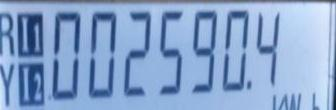.: (271, 93, 327, 110)
0: (247, 81, 253, 90)
1: (50, 11, 83, 99), (89, 10, 117, 98), (222, 10, 248, 93)
3: (121, 11, 151, 97)
5: (253, 10, 283, 88)
6: (157, 11, 184, 95)
:: (190, 10, 216, 93)
